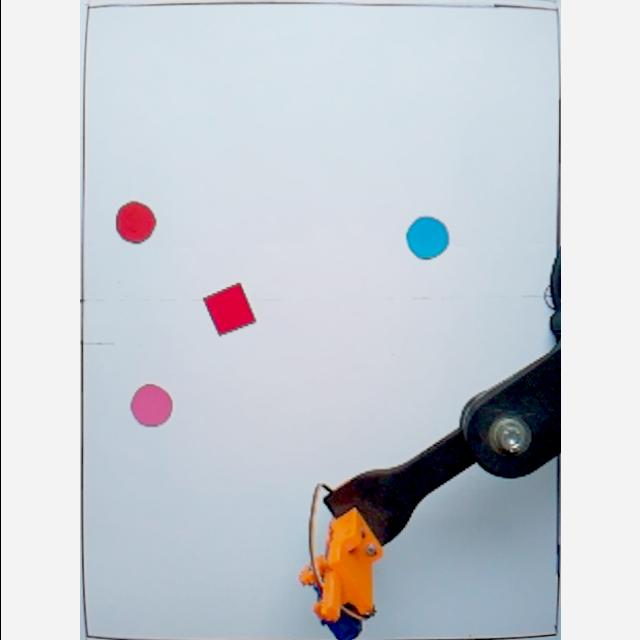blueCircle: (403, 217, 451, 260)
pinkCircle: (128, 381, 174, 427)
redCircle: (114, 200, 160, 247)
redSquare: (202, 282, 256, 336)
